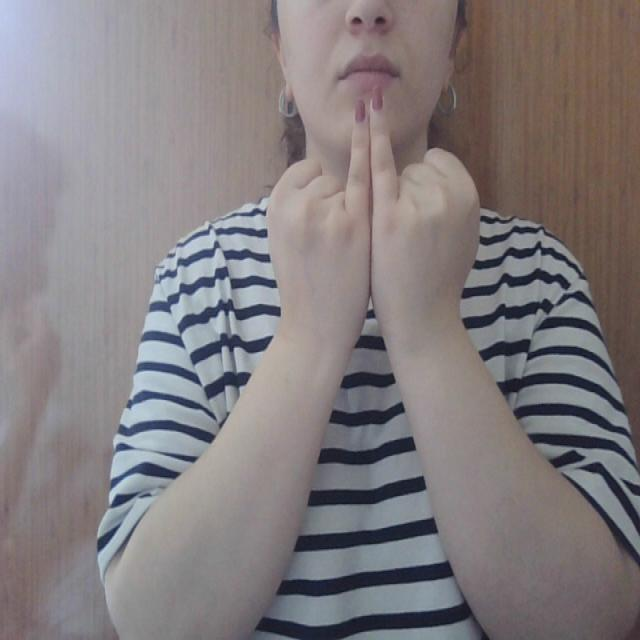Kardes: (261, 78, 484, 365)
